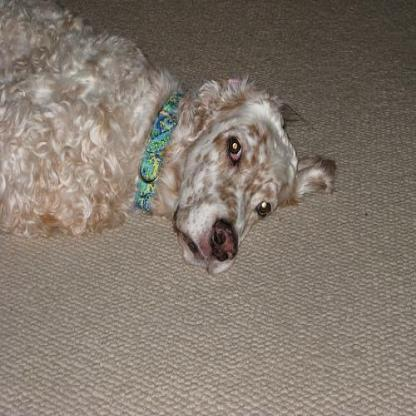English_setter: (0, 0, 336, 273)
